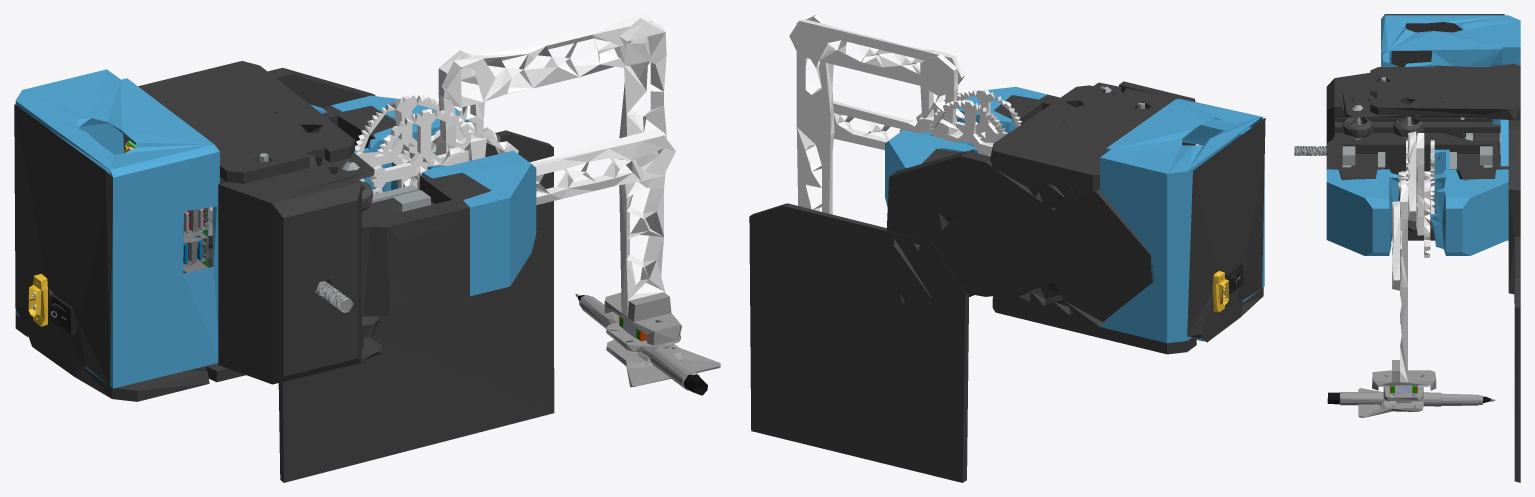
File: rig.lod1.glb
3 renders of one model, left to right at view 1: azimuth 30°, elevation 25°; view 2: azimuth 150°, elevation 25°; view 3: azimuth 270°, elevation 25°, orthographic. The views are drawn at different scales.
Visible parts, largest first — view 1: root_base, Component12_1, Component3_1, Component4_1, Component2_1, Component11_1, Component14_1, Sharpie_Pen_1, Component16_1; view 2: root_base, Component12_1, Component3_1, Component2_1, Component4_1; view 3: root_base, Sharpie_Pen_1, Component12_1, Component2_1, Component11_1, Component14_1, Component4_1, Component3_1, Component16_1.
Part boxes in pixels (x1,y1,x2,y2): root_base: (14,61,554,482); Component12_1: (619,18,666,317); Component3_1: (441,14,652,107); Component4_1: (439,128,675,204); Component2_1: (403,50,505,187); Component11_1: (604,292,681,345); Component14_1: (606,339,720,387); Sharpie_Pen_1: (575,294,707,395); Component16_1: (606,322,680,352); root_base: (749,81,1265,482); Component12_1: (796,14,834,214); Component3_1: (789,19,965,85); Component2_1: (899,54,962,136); Component4_1: (833,100,977,149); root_base: (1294,14,1520,482); Sharpie_Pen_1: (1327,392,1495,406); Component12_1: (1400,186,1407,382); Component2_1: (1416,133,1430,257); Component11_1: (1372,360,1436,390); Component14_1: (1358,388,1423,417); Component4_1: (1392,179,1406,290); Component3_1: (1408,131,1416,221); Component16_1: (1383,386,1423,400).
Size of the model in its own units: 0.3625 by 0.2604 by 0.1786.
